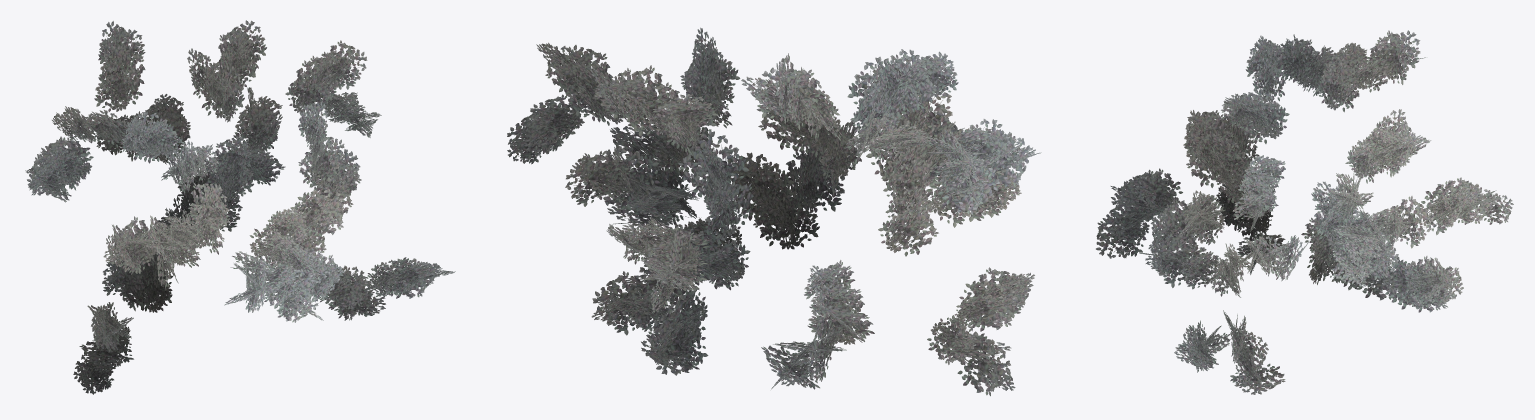
The model's file is birch_l0.gltf.
The picture shows the model from 3 angles, left to right: view 1: azimuth 30°, elevation 25°; view 2: azimuth 150°, elevation 25°; view 3: azimuth 270°, elevation 25°; orthographic projection. The views are drawn at different scales.
Parts seen in each view (by area): view 1: birch_l0; view 2: birch_l0; view 3: birch_l0.
Part boxes in pixels (x1=…): birch_l0: x1=25, y1=20, x2=455, y2=394; birch_l0: x1=507, y1=27, x2=1041, y2=396; birch_l0: x1=1096, y1=30, x2=1513, y2=394.
Size of the model in its own units: 12.78 by 9.61 by 12.41.
1 material, 1 textured.
